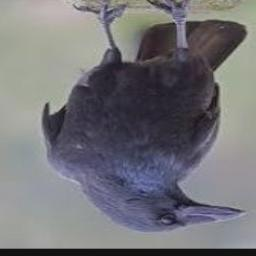Crow: (43, 0, 250, 233)
